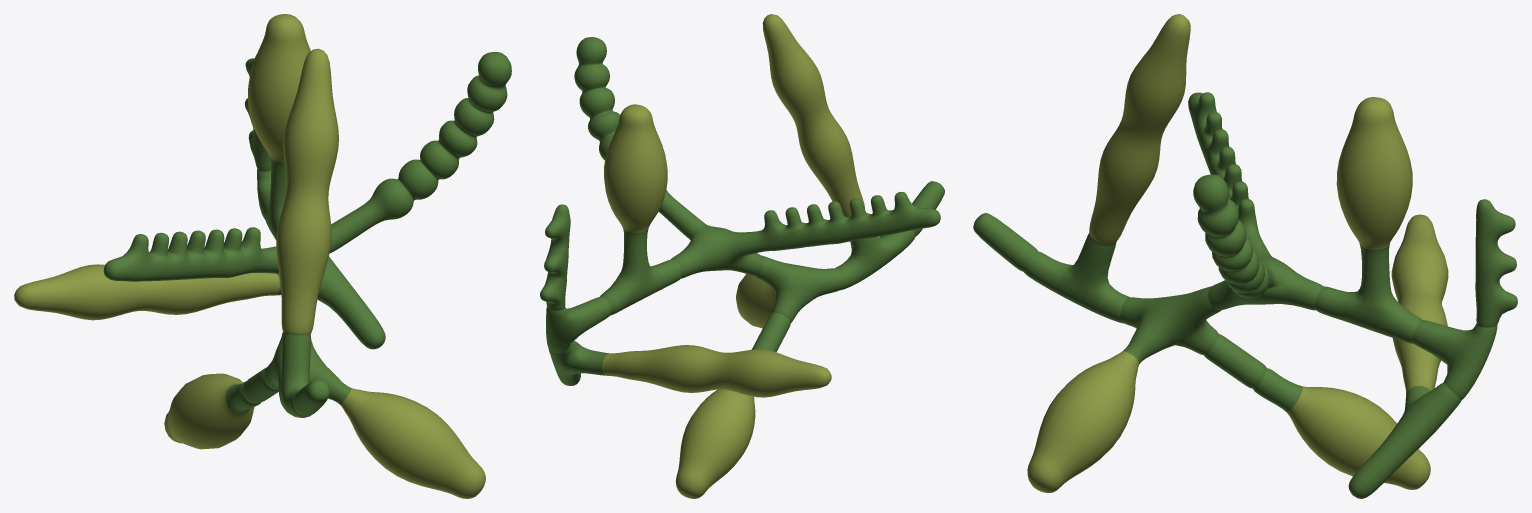
Rendered from microsporum_audouinii.fbx.
3 renders of one model, left to right at view 1: azimuth 30°, elevation 25°; view 2: azimuth 150°, elevation 25°; view 3: azimuth 270°, elevation 25°, orthographic. The views are drawn at different scales.
Parts seen in each view (by area): view 1: microsporum audouinii; view 2: microsporum audouinii; view 3: microsporum audouinii.
Part boxes in pixels (x1,y1,x2,y2): microsporum audouinii: (14, 14, 511, 498); microsporum audouinii: (540, 14, 944, 498); microsporum audouinii: (973, 14, 1517, 498).
Size of the model in its own units: 1206 by 1318 by 1346.
